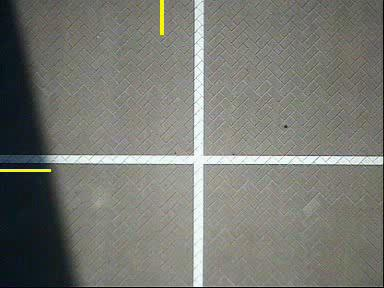groundmarker_2: (201, 84, 236, 141)
